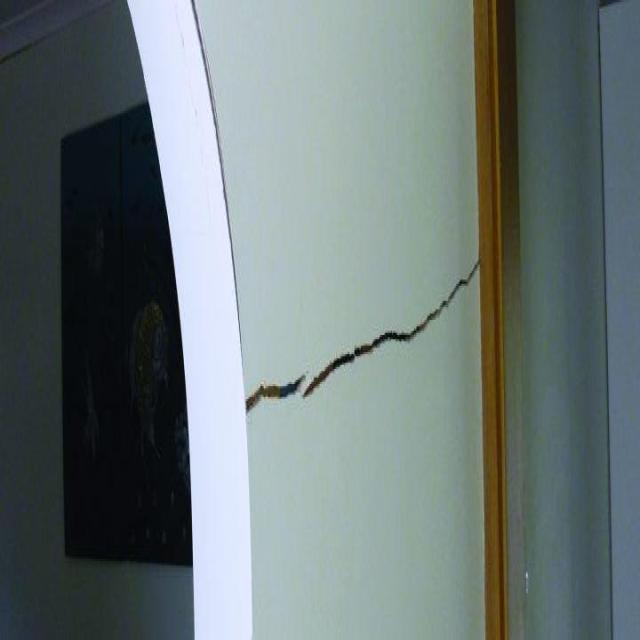Crack: (312, 320, 415, 373), (423, 263, 479, 322), (249, 365, 316, 414)
